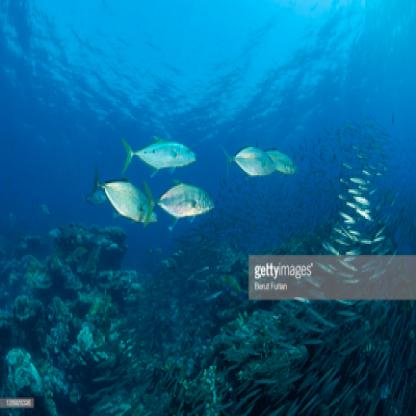jack: (90, 161, 160, 233), (115, 125, 199, 178), (137, 173, 219, 220), (217, 134, 278, 185)
